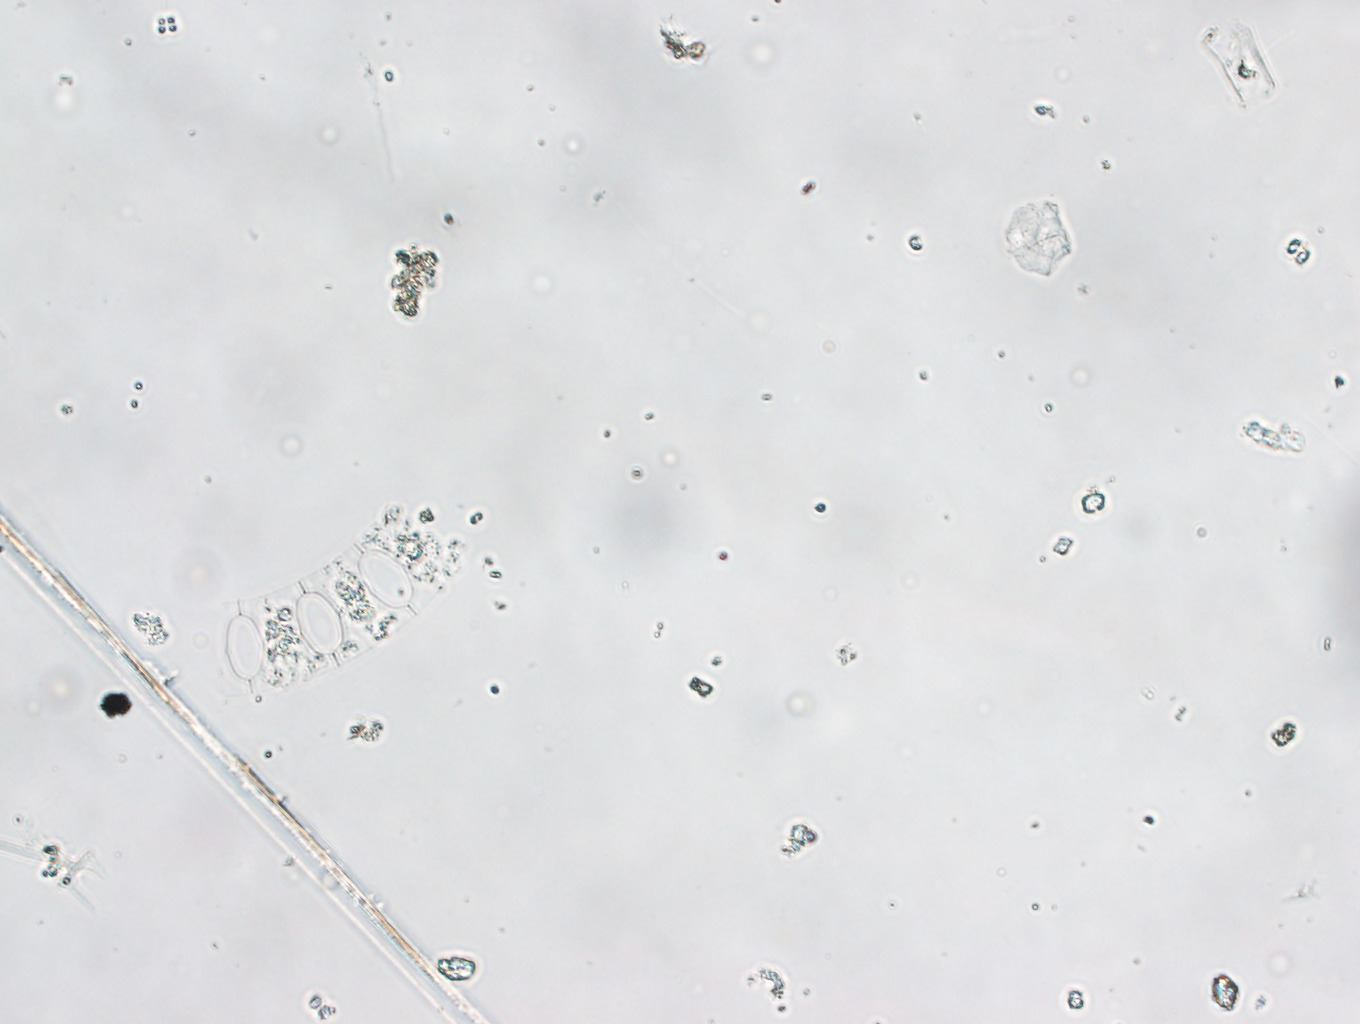eucampia: (194, 485, 490, 693)
